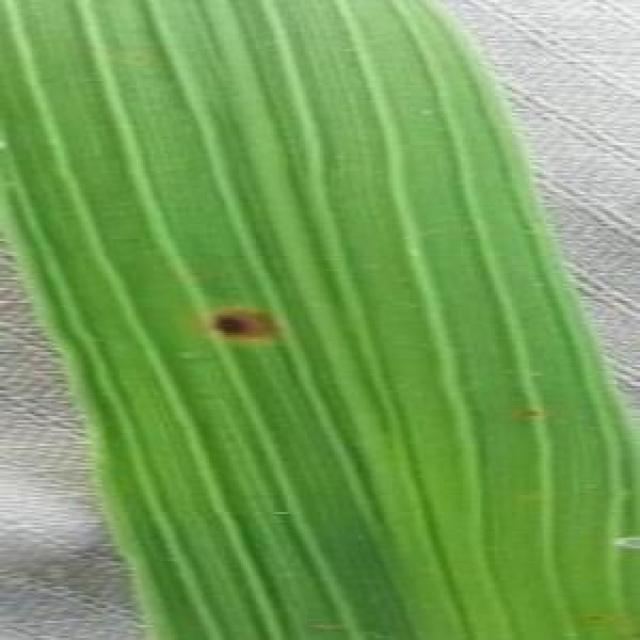brownspots: (198, 305, 273, 348)
